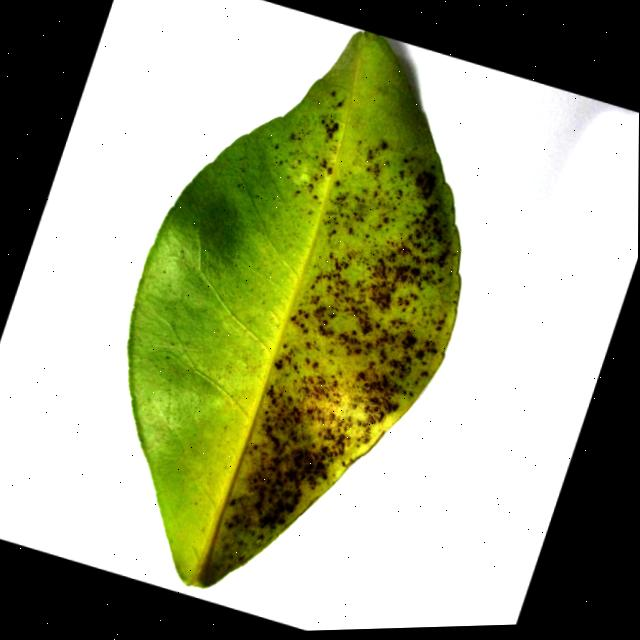melanose: (128, 30, 460, 586)
